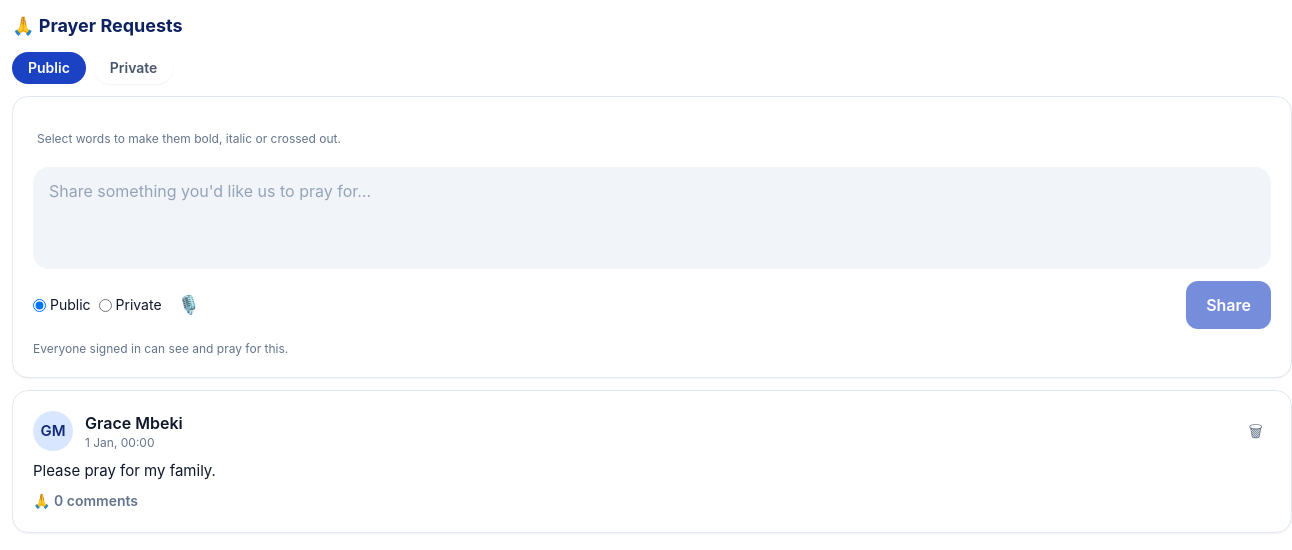
PrayerRequests — feed › a request the viewer may delete shows a delete button that removes it from the list
Expected: the text "Grace Mbeki" is shown, [85,413,183,433]
Click the button named "Delete".
click(1256, 431)  # box [1241,411,1271,451]
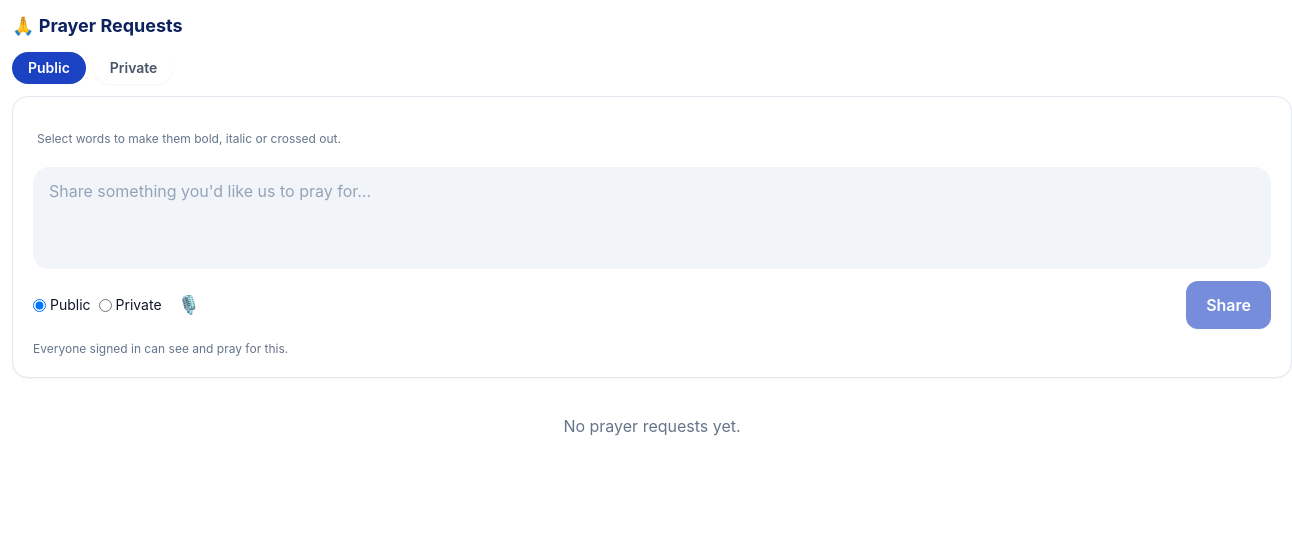
Result: the text "Grace Mbeki" is gone
